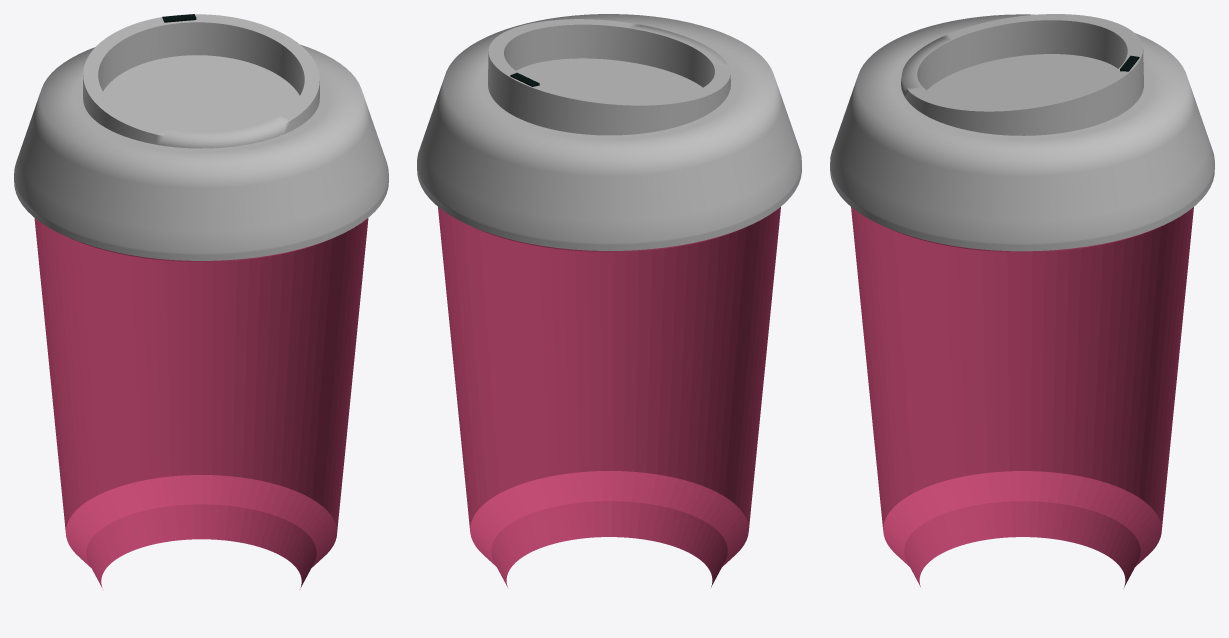
The model's file is costa.glb.
3 views of the same model, side by side, from view 1: azimuth 30°, elevation 25°; view 2: azimuth 150°, elevation 25°; view 3: azimuth 270°, elevation 25° (orthographic). The views are drawn at different scales.
Parts seen in each view (by area): view 1: Loft, Loft.2; view 2: Loft, Loft.2; view 3: Loft, Loft.2.
Part boxes in pixels (left/top/right/bottom): Loft: left=34, top=218, right=368, bottom=587; Loft.2: left=14, top=14, right=388, bottom=260; Loft: left=438, top=207, right=780, bottom=588; Loft.2: left=417, top=14, right=801, bottom=250; Loft: left=851, top=207, right=1193, bottom=588; Loft.2: left=830, top=14, right=1214, bottom=251.
Size of the model in its own units: 179 by 273 by 179.
Materials: 5 (2 with a texture image).
